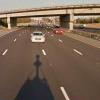Bridge: (3, 1, 92, 25)
